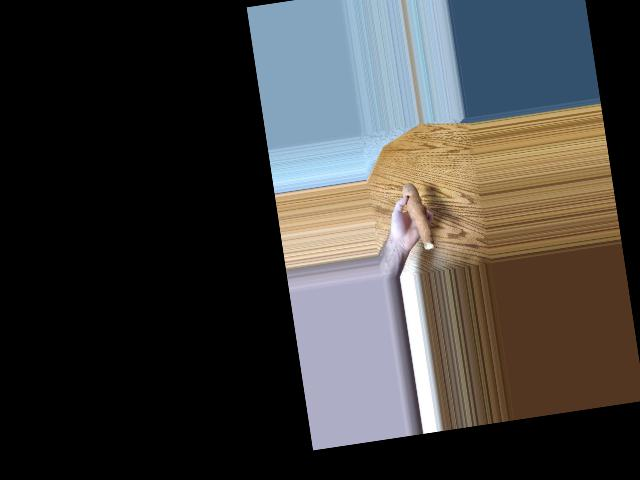sweet_potato: (405, 177, 433, 254)
